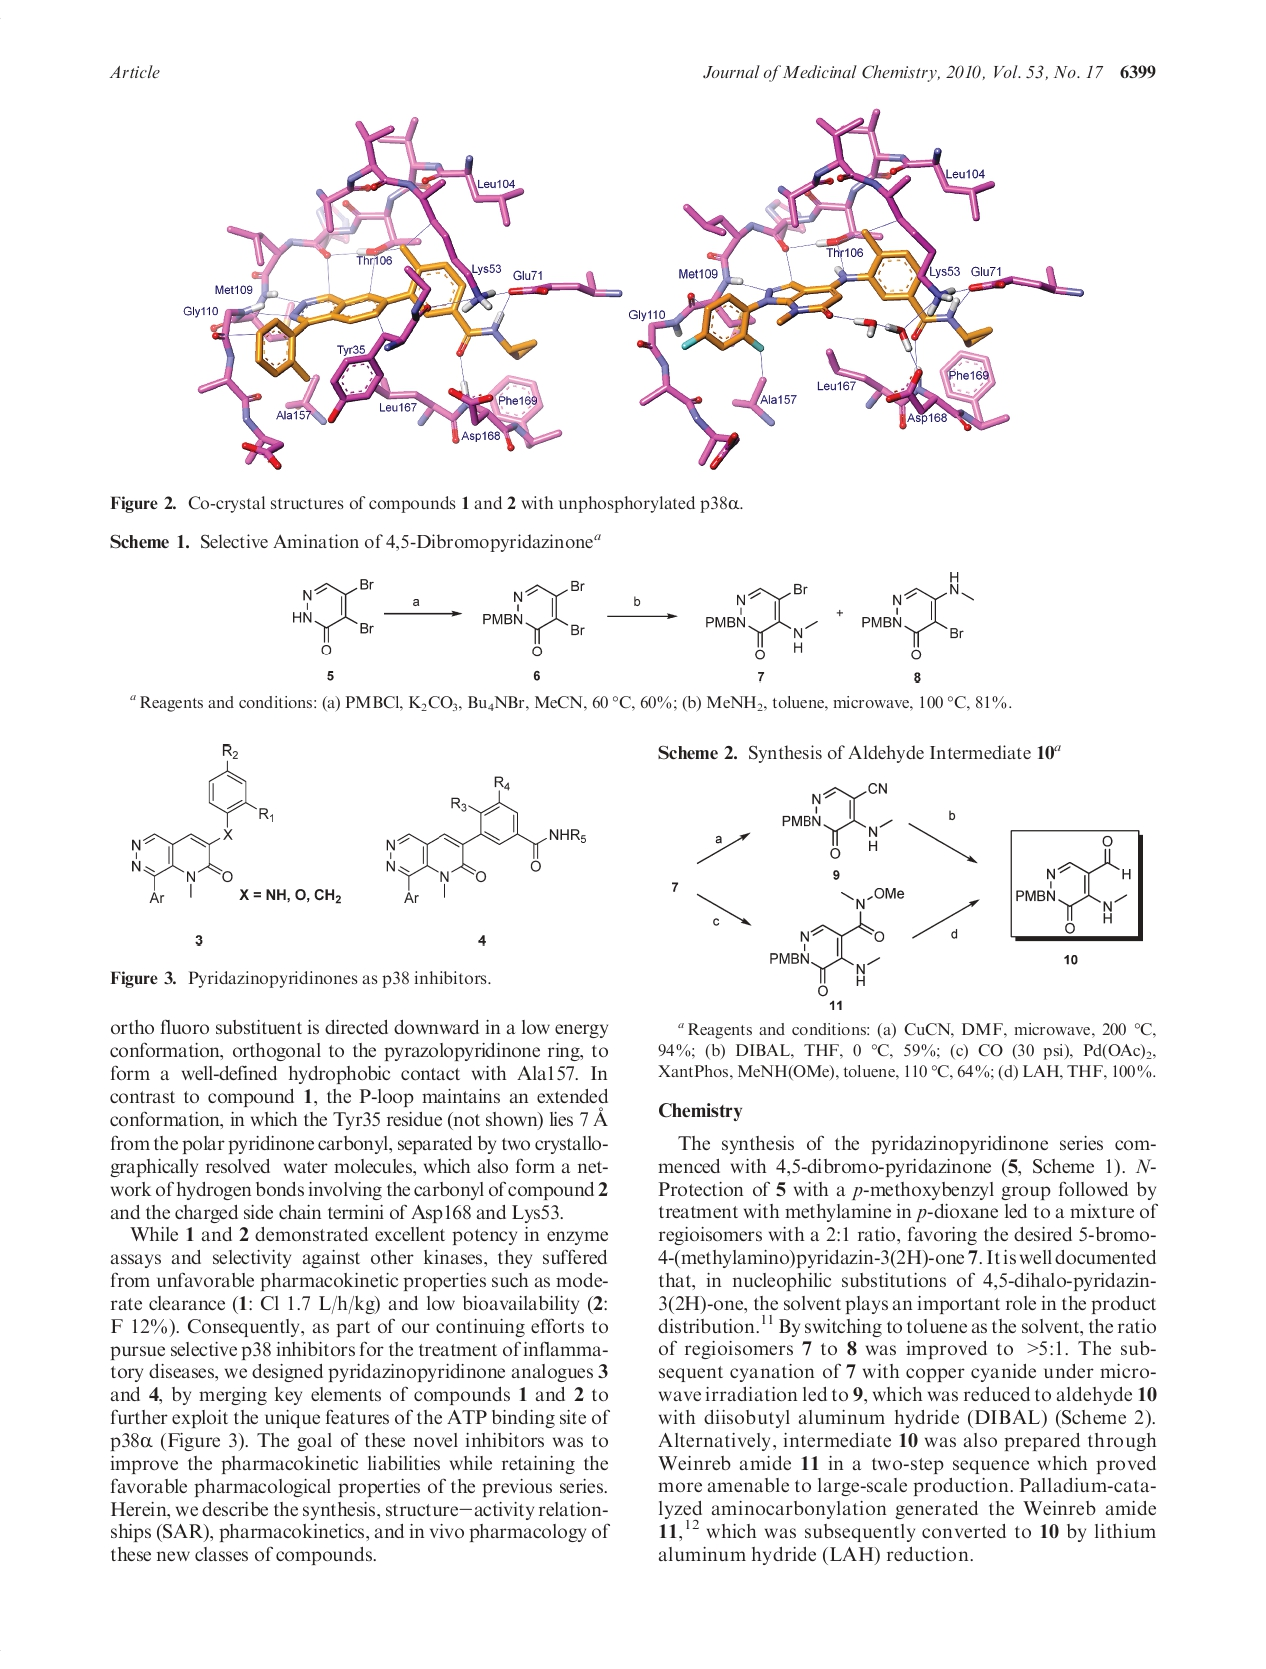exist_molecular: (386, 775, 588, 906), (129, 742, 277, 906), (767, 884, 907, 997), (1015, 834, 1132, 935), (860, 571, 976, 662), (703, 577, 821, 662), (781, 781, 896, 859), (481, 576, 589, 658), (291, 575, 376, 657)
